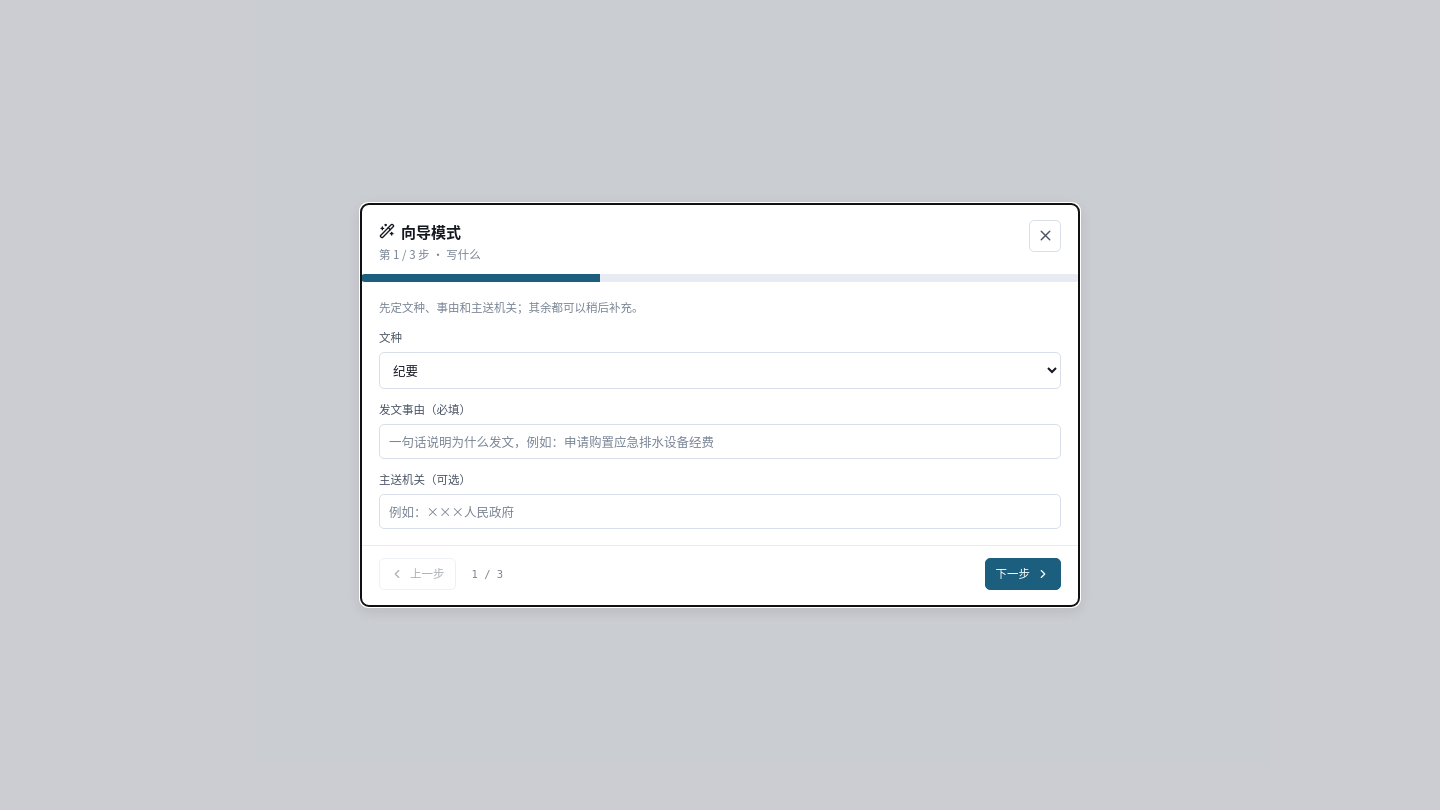
Scenario: DraftWizard › does not require a recipient for a minutes document
Type "汛前检查部署" into the field labelled "发文事由（必填）".
click(720, 442); type("汛前检查部署")  # box left=379, top=424, right=1061, bottom=459
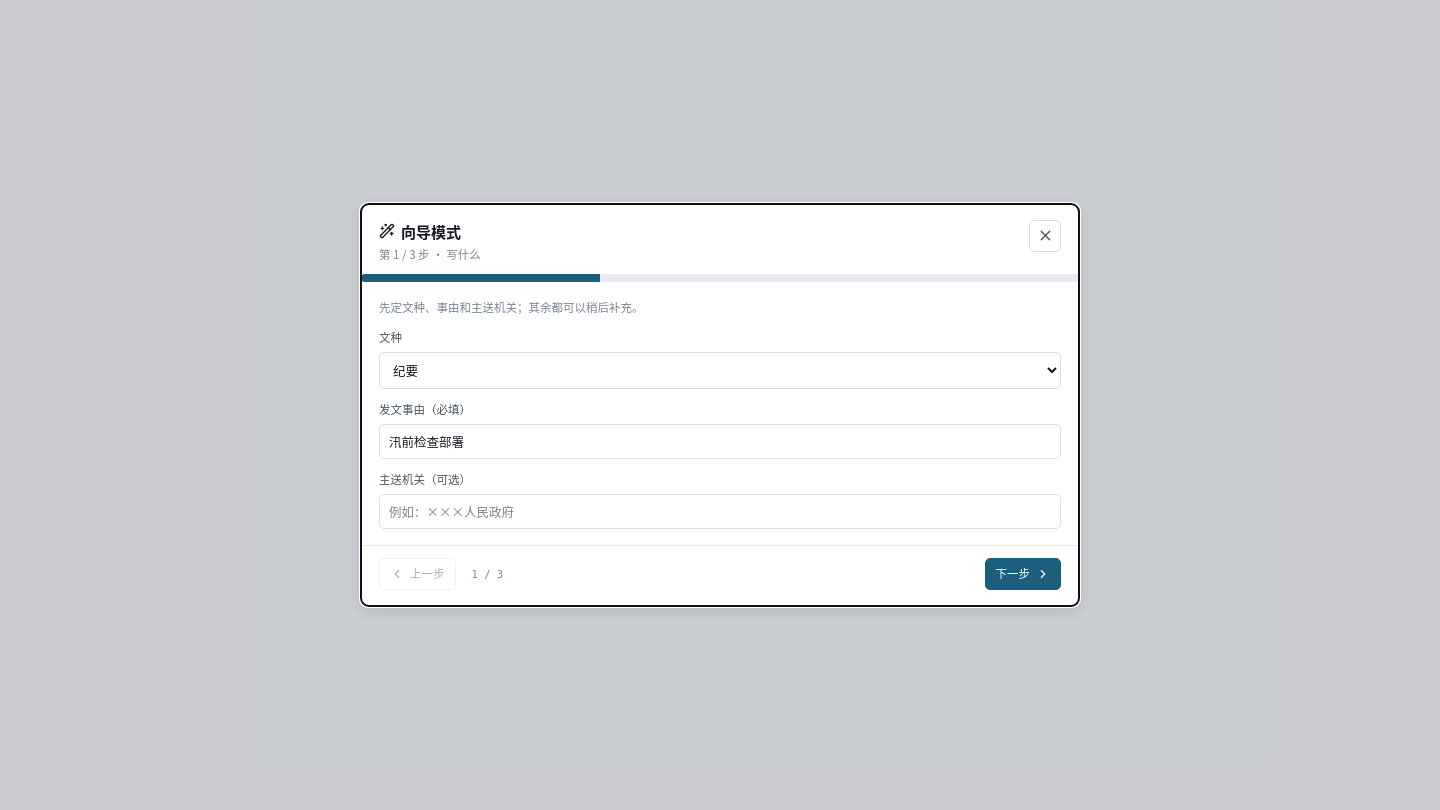
Click the button "下一步".
click(1023, 574)  # box left=984, top=558, right=1061, bottom=590
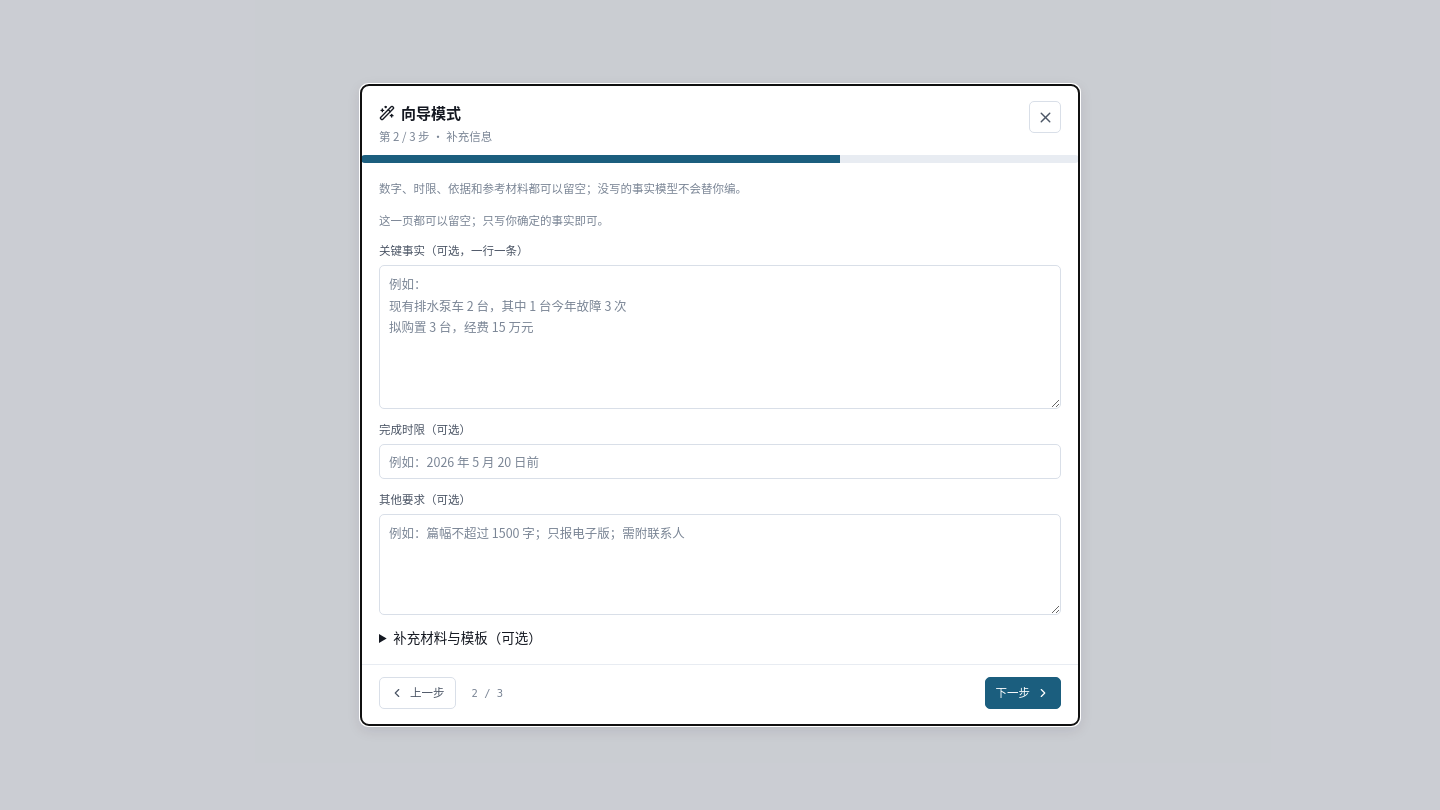
Check: the text box labelled "关键事实（可选，一行一条）" is shown, box left=379, top=265, right=1061, bottom=409
